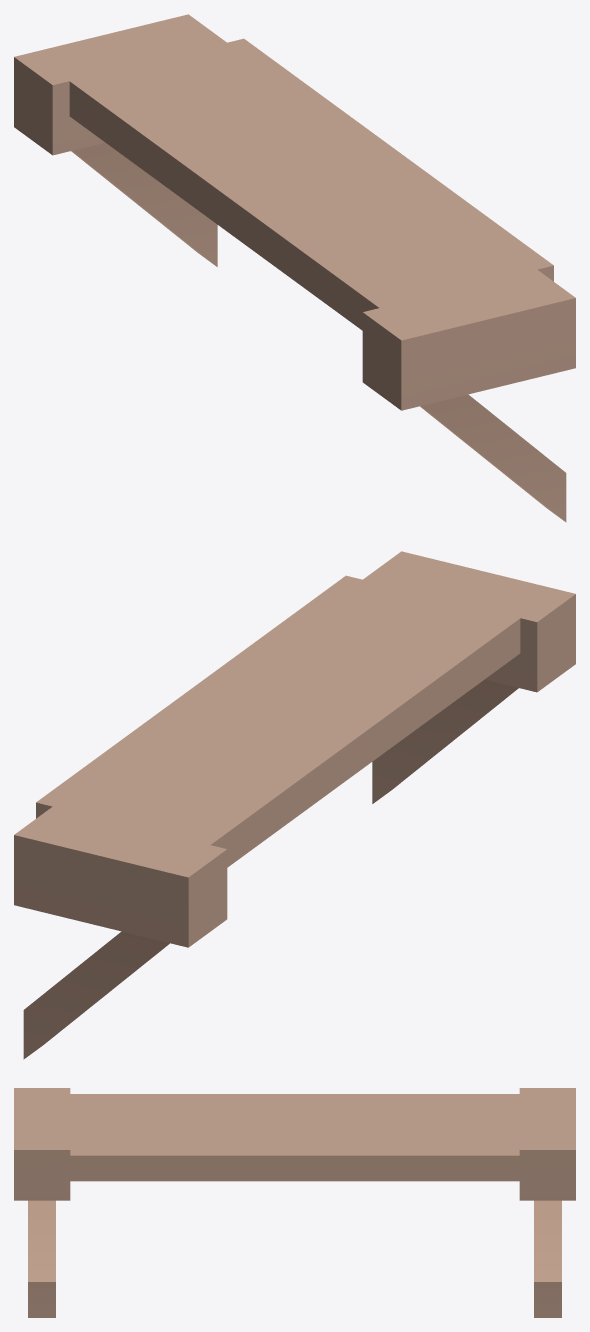
Rendered from overhang.glb.
3 renders of one model, top to bottom at view 1: azimuth 30°, elevation 25°; view 2: azimuth 150°, elevation 25°; view 3: azimuth 270°, elevation 25°, orthographic. The views are drawn at different scales.
Parts seen in each view (by area): view 1: overhang; view 2: overhang; view 3: overhang.
Boxes of the visible parts, left/top/right/bottom form: overhang: left=14, top=14, right=575, bottom=522; overhang: left=14, top=551, right=575, bottom=1059; overhang: left=14, top=1088, right=575, bottom=1317.
Size of the model in its own units: 0.285 by 0.33 by 1.
